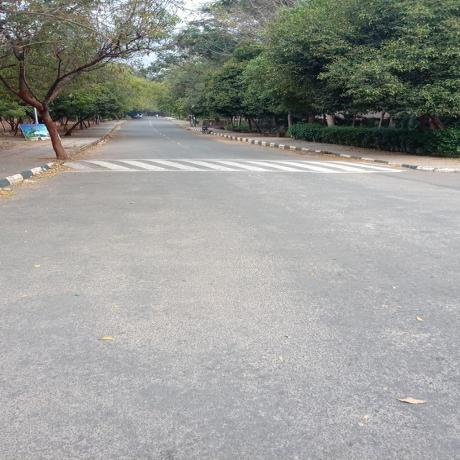Speed Bump: (50, 157, 411, 173)
